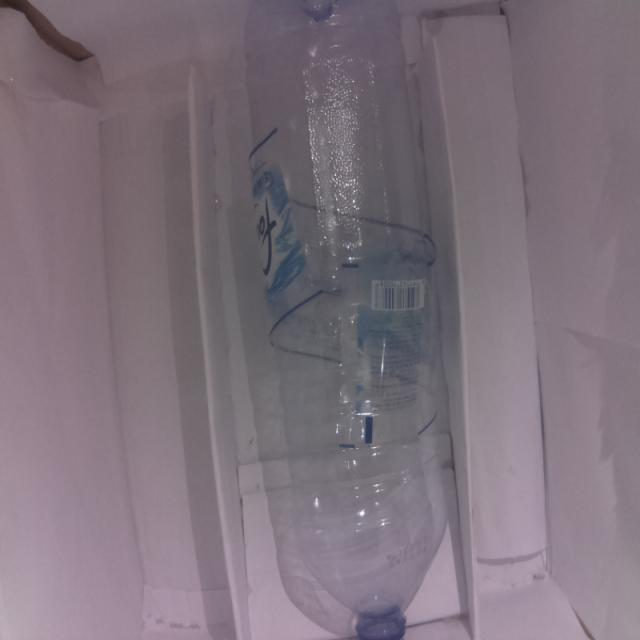Anorganik: (240, 0, 458, 640)
